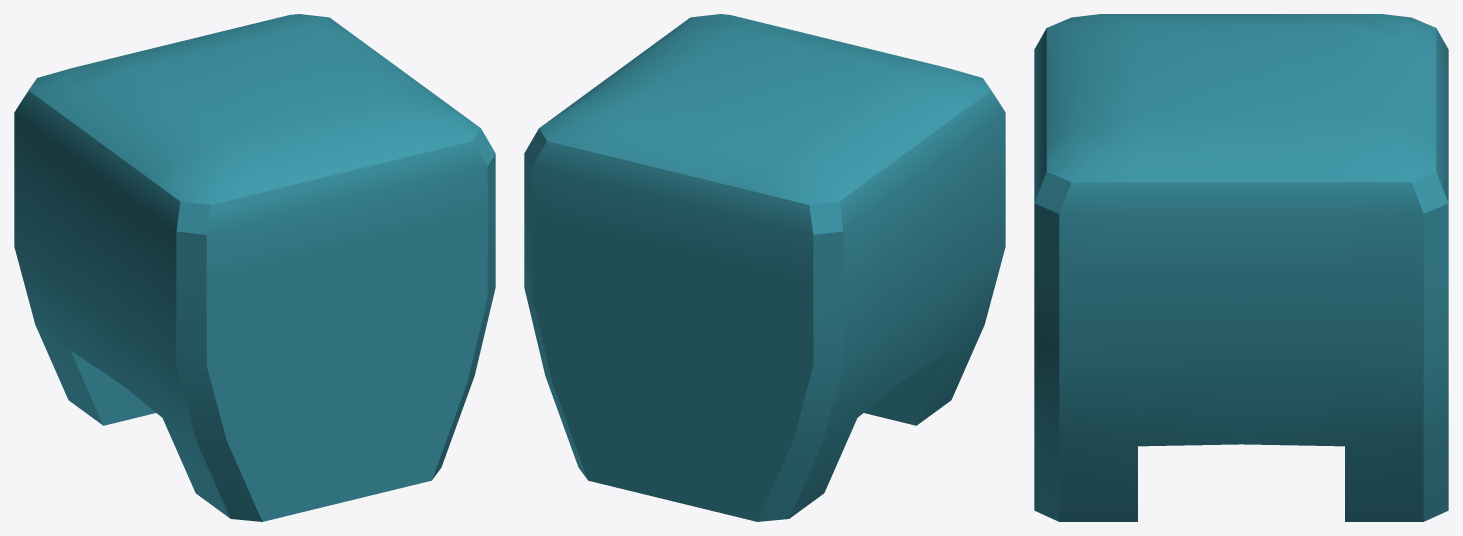
The model's file is Creature.obj.
The picture shows the model from 3 angles, left to right: view 1: azimuth 30°, elevation 25°; view 2: azimuth 150°, elevation 25°; view 3: azimuth 270°, elevation 25°; orthographic projection. The views are drawn at different scales.
Parts seen in each view (by area): view 1: pCube1; view 2: pCube1; view 3: pCube1.
Part boxes in pixels (<box>): pCube1: <box>14,14,495,521</box>; pCube1: <box>524,14,1005,521</box>; pCube1: <box>1034,14,1448,521</box>.
Size of the model in its own units: 17.43 by 18.27 by 17.43.
